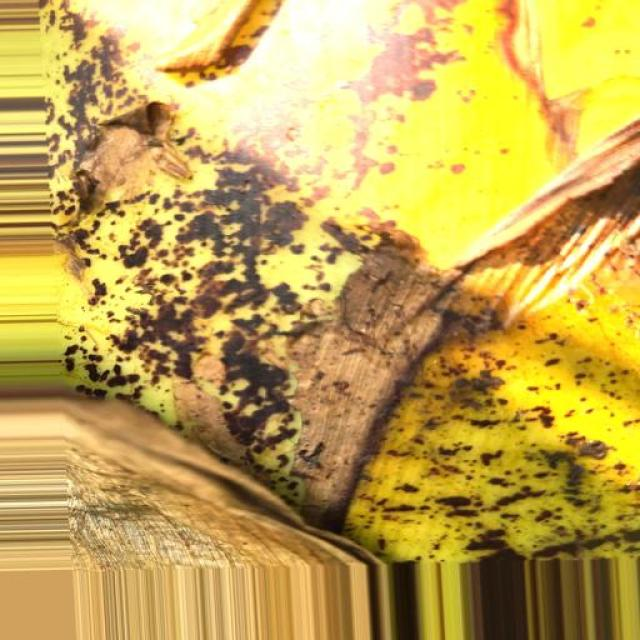Anthracnose: (36, 0, 640, 571)
